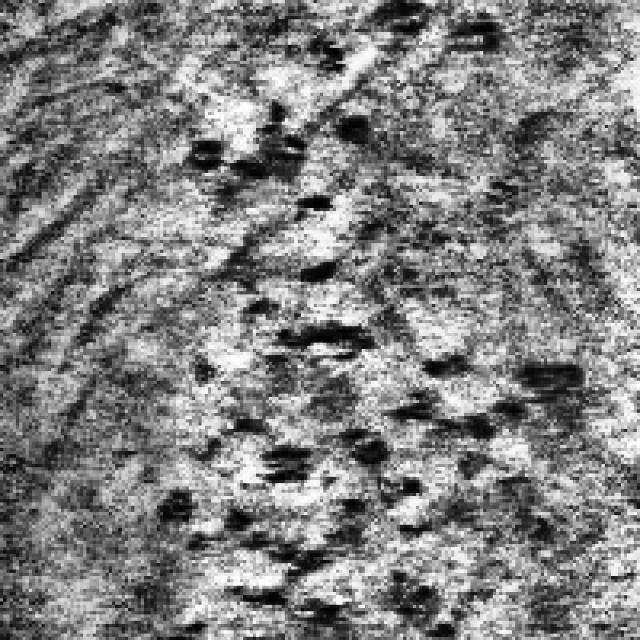Crazing: (138, 348, 586, 630), (179, 67, 387, 426)
